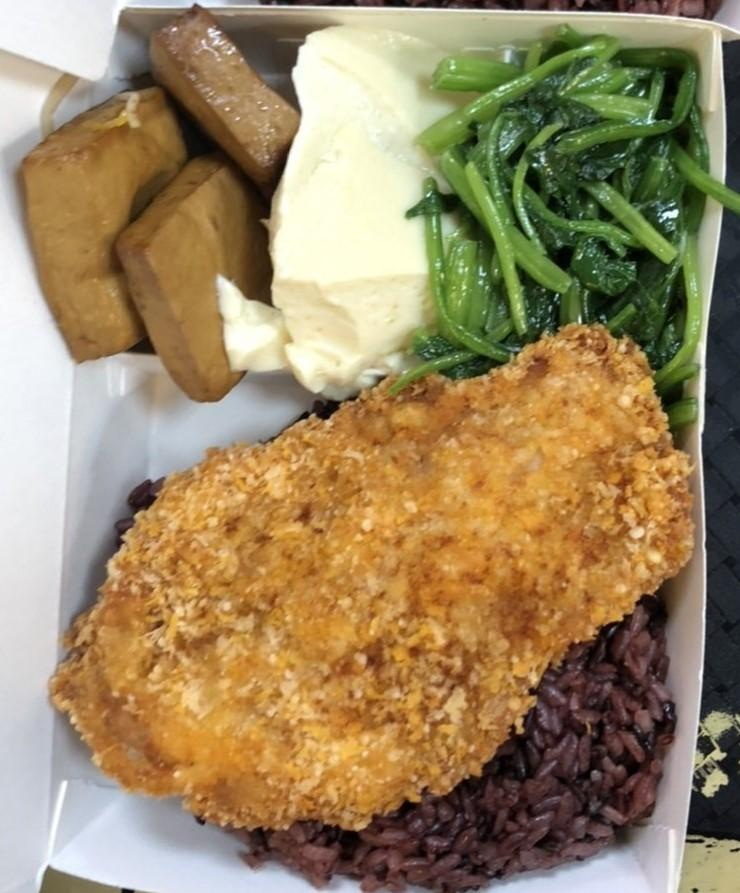big grilled chicken leg: (22, 0, 740, 893)
braised fish: (241, 590, 678, 886)
braised fish fillet: (21, 14, 292, 403), (430, 30, 704, 397), (266, 12, 469, 405)
braised pork: (43, 318, 712, 837)
